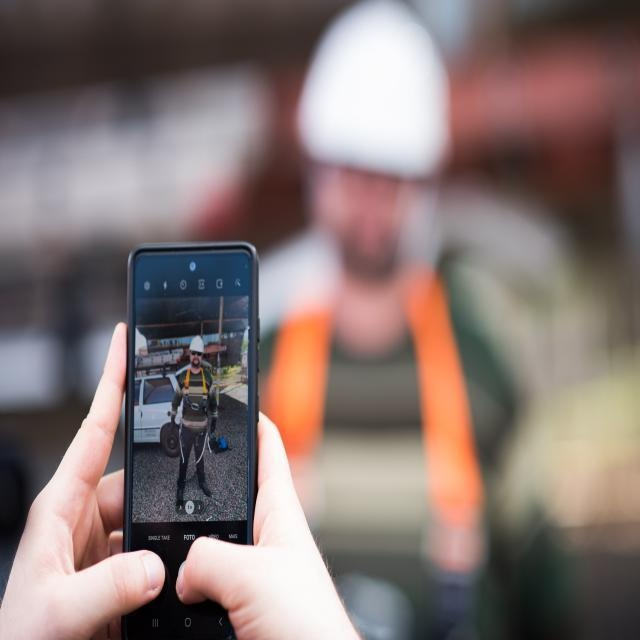Arnes_seguridad: (180, 364, 209, 468)
